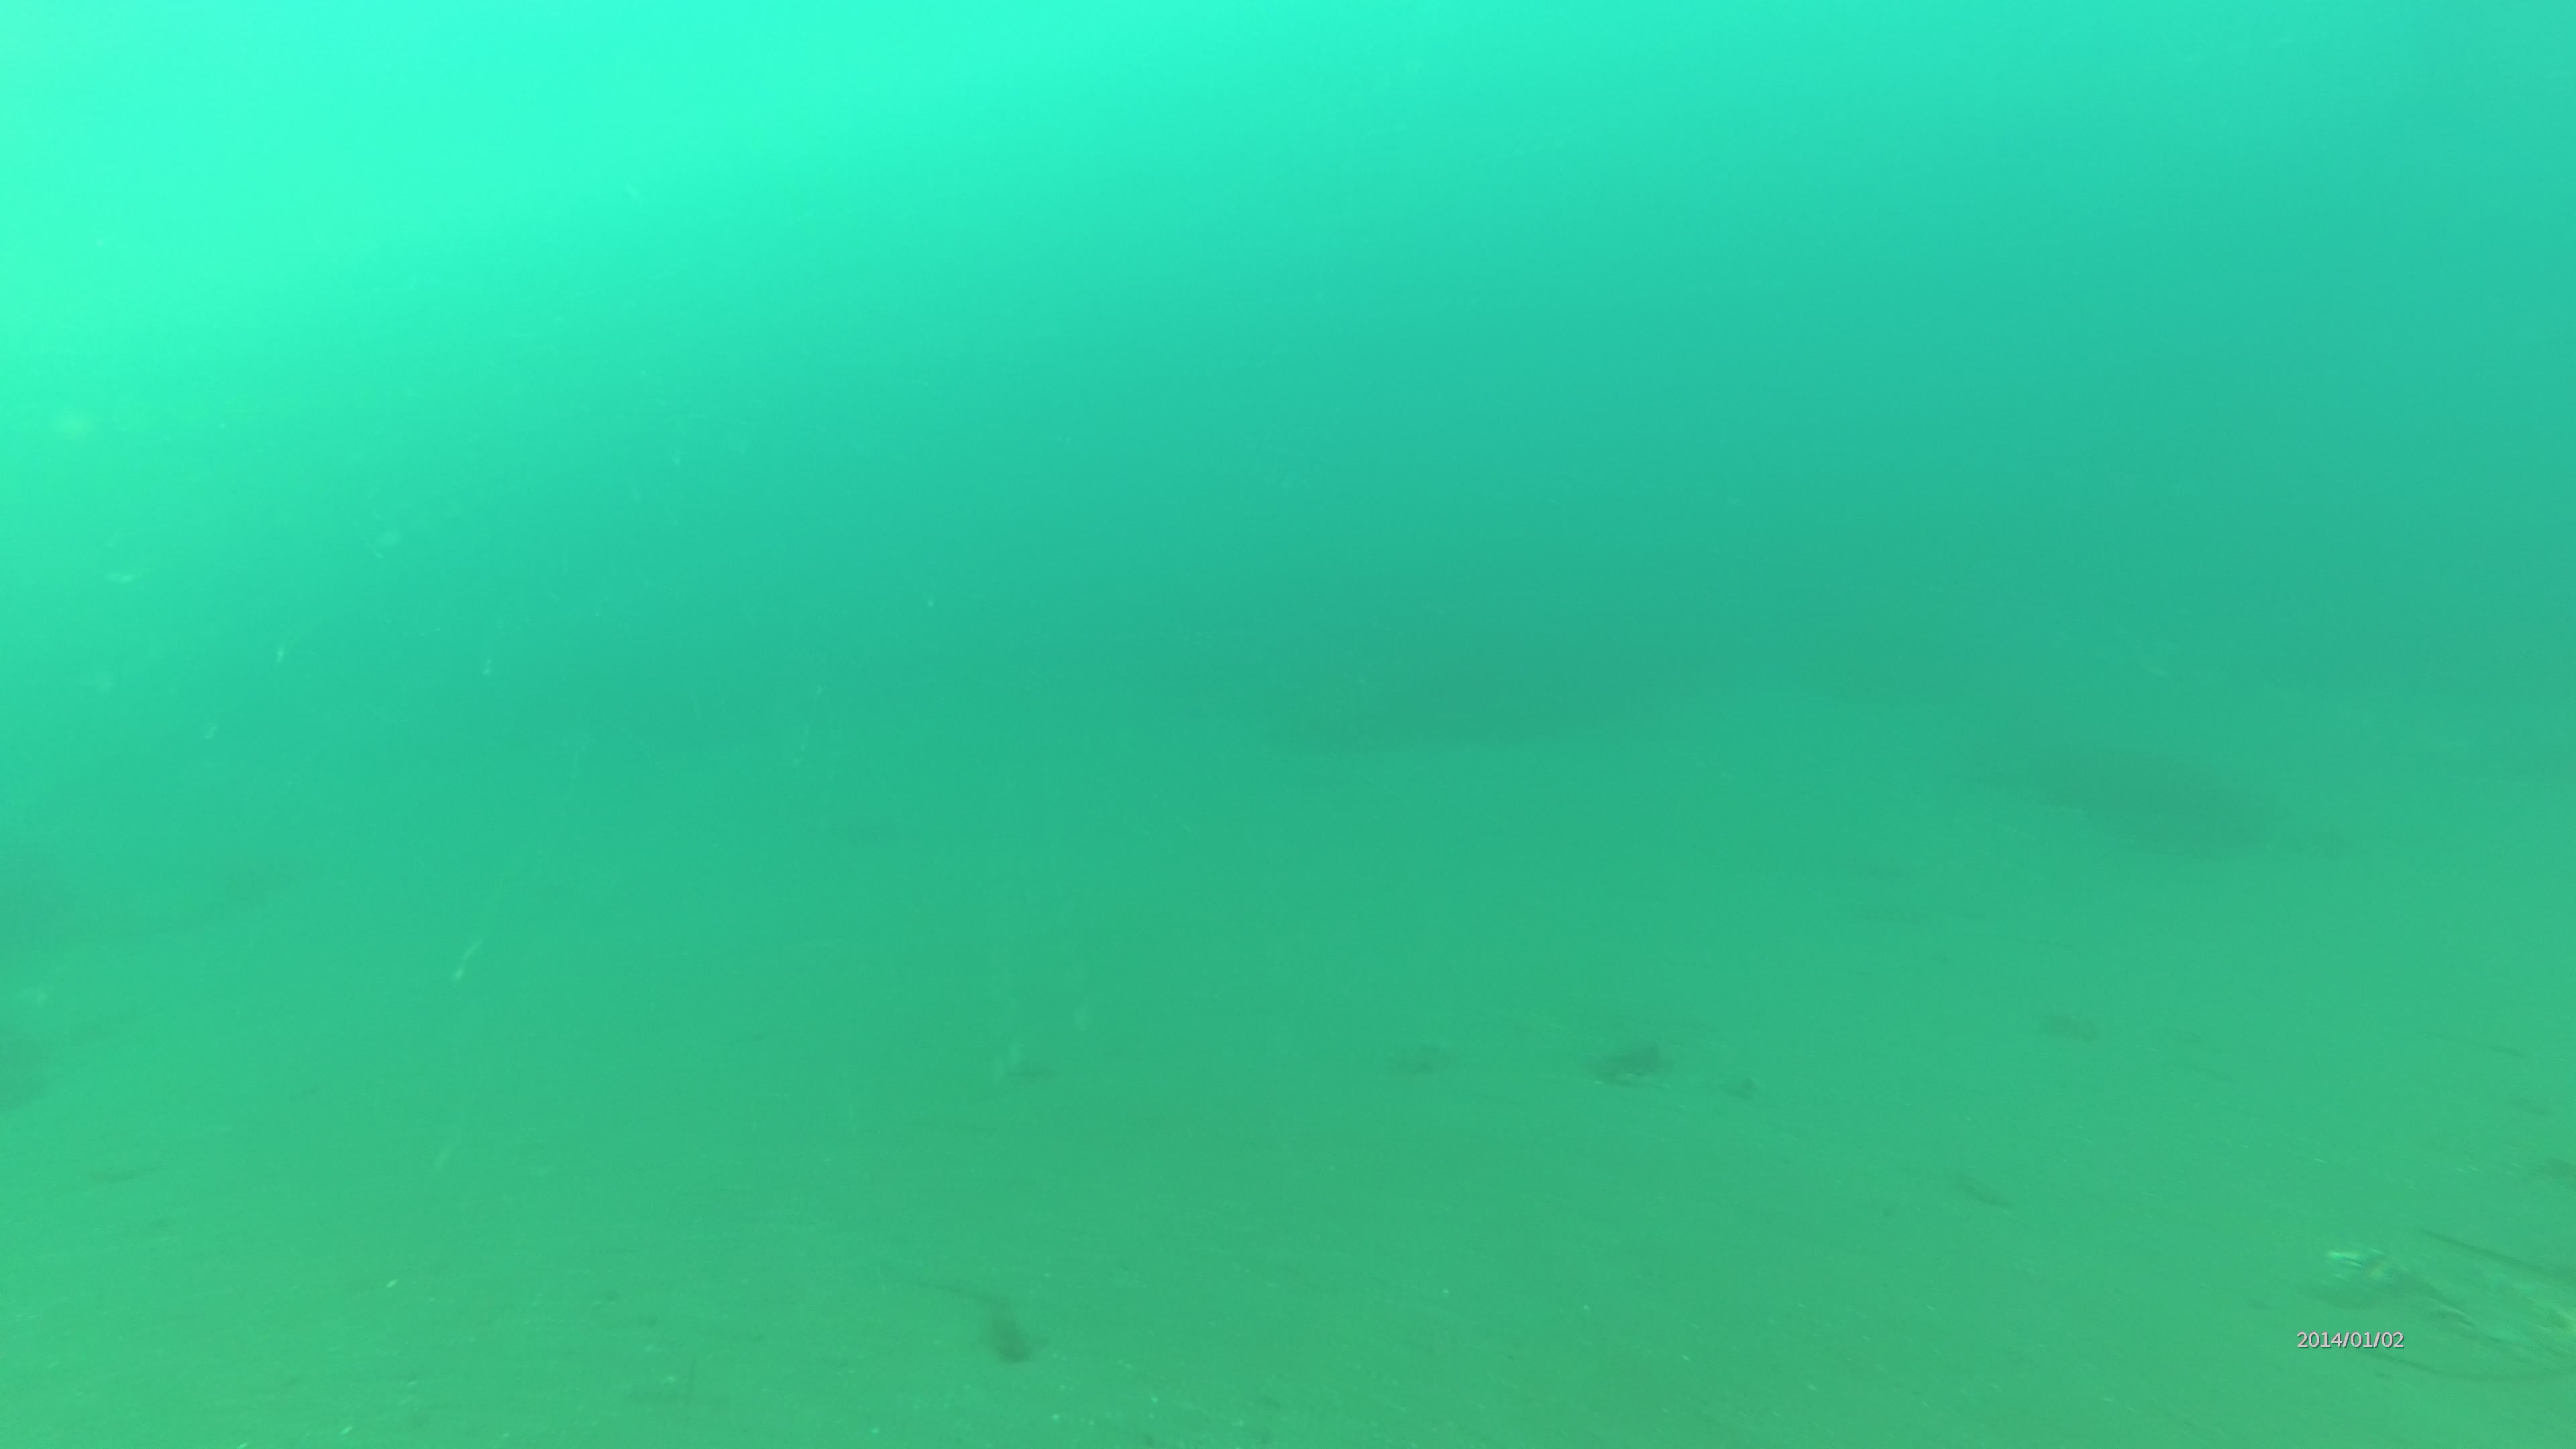scallop: (2327, 1235, 2390, 1274)
